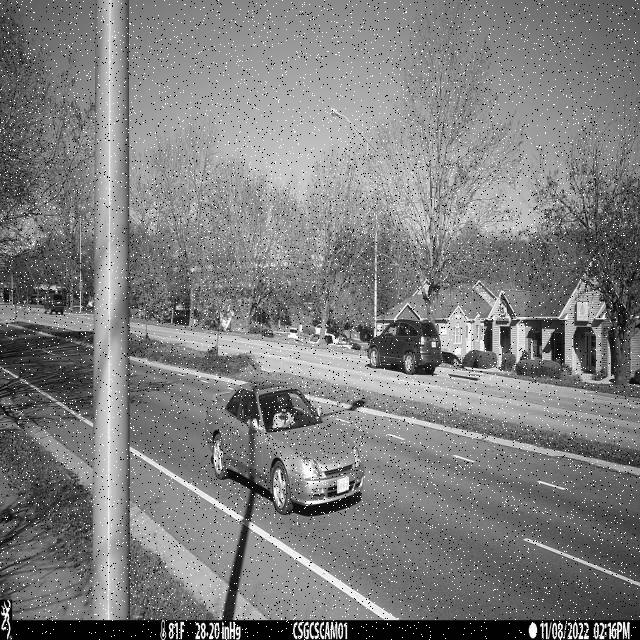Sedan: (206, 381, 366, 516)
